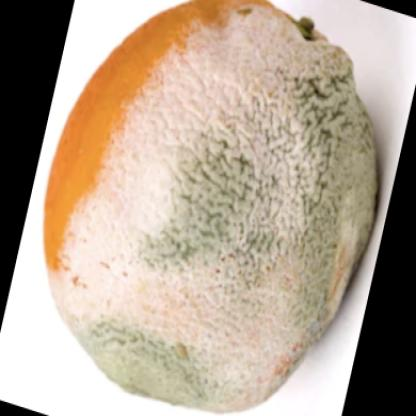rotten: (44, 1, 379, 409)
